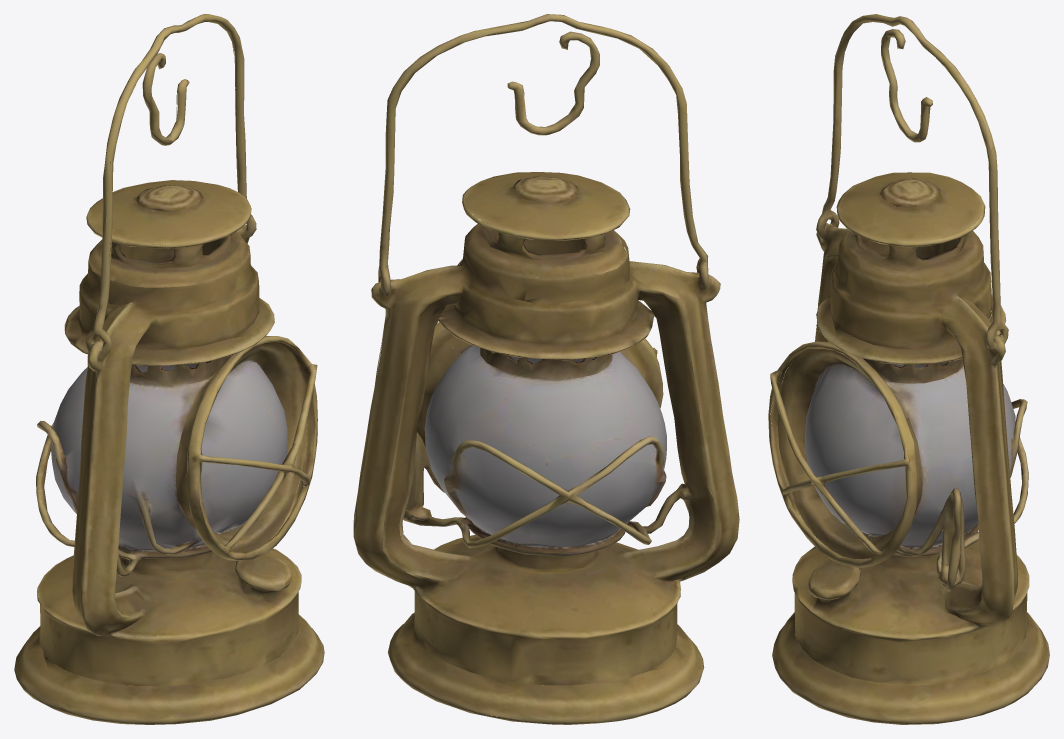
File: carburo.glb
The picture shows the model from 3 angles, left to right: view 1: azimuth 30°, elevation 25°; view 2: azimuth 150°, elevation 25°; view 3: azimuth 270°, elevation 25°; orthographic projection.
Parts seen in each view (by area): view 1: geometry_0; view 2: geometry_0; view 3: geometry_0.
Part boxes in pixels (left/top/right/bottom): geometry_0: left=14, top=14, right=324, bottom=724; geometry_0: left=353, top=14, right=739, bottom=724; geometry_0: left=768, top=14, right=1049, bottom=724.
Size of the model in its own units: 0.14 by 0.3 by 0.1201.
1 material, 1 textured.
